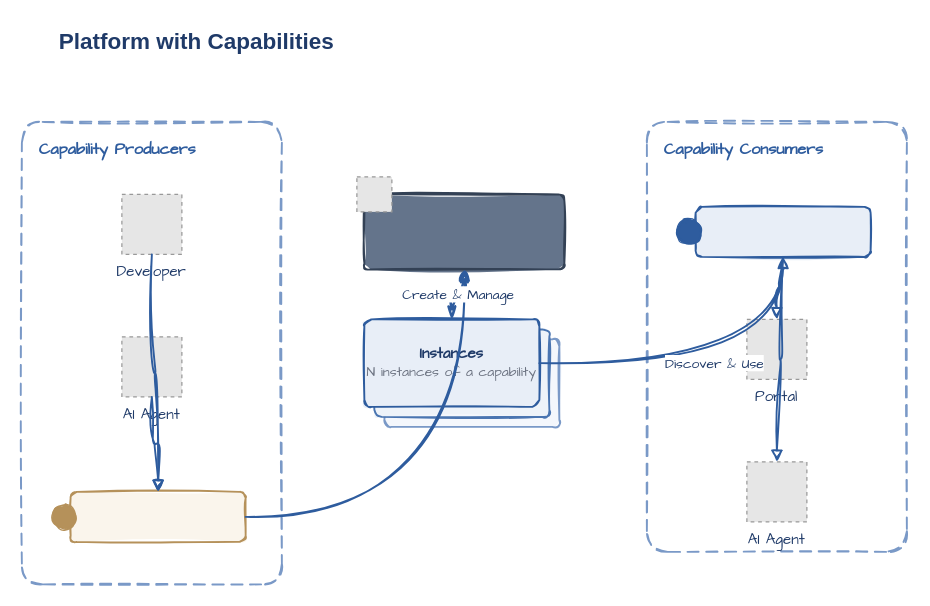
Some shapes in this 930 by 606 pixel diagram are drawn without their labels. Grey dashed boxes stand in for pictures. Here are the shapes that lost their labels. From the top down, the box of each, then its label:
(363, 193, 565, 270): Capability Definition
(694, 205, 871, 257): Consumer API
(69, 490, 246, 542): Producer API
